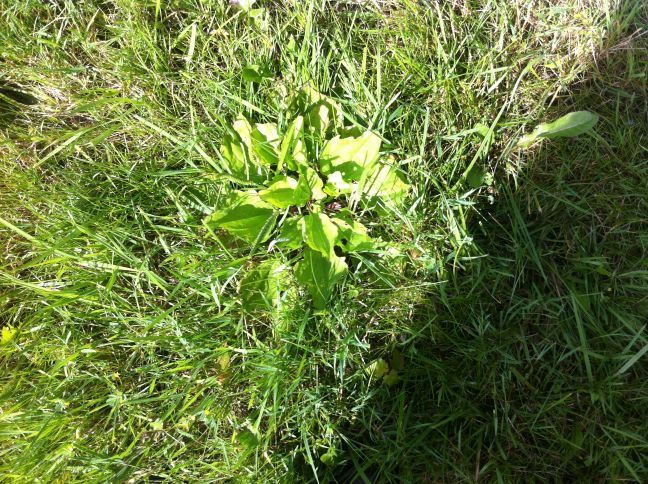weed1: (199, 103, 416, 302)
